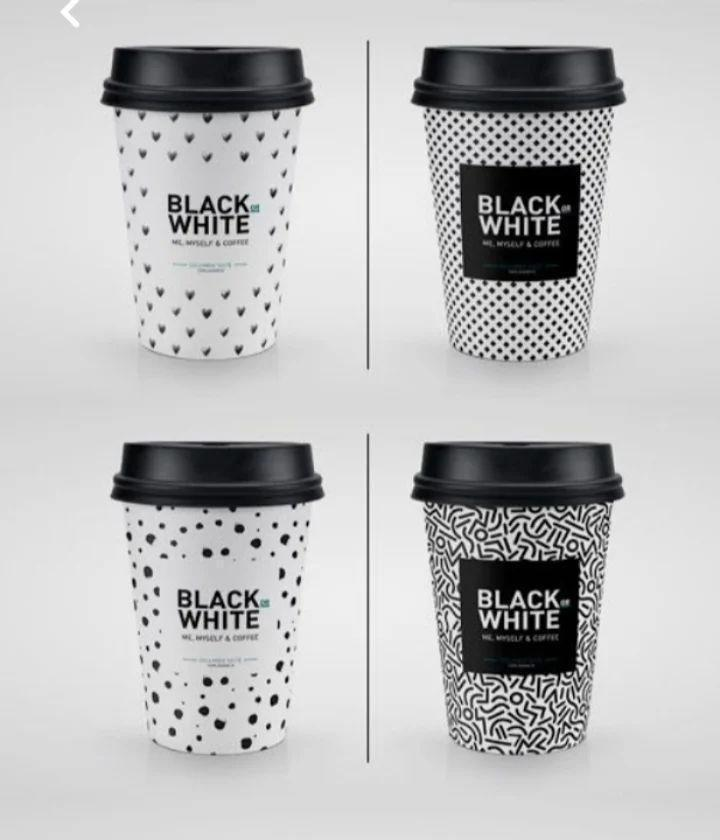cup-disposable: (401, 30, 634, 367), (406, 431, 635, 766), (92, 35, 319, 370), (101, 431, 328, 765)
